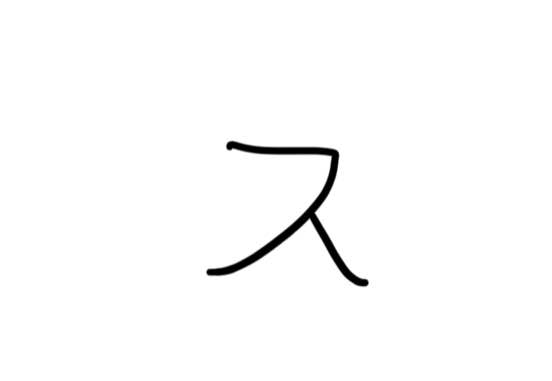su: (181, 132, 382, 305)
